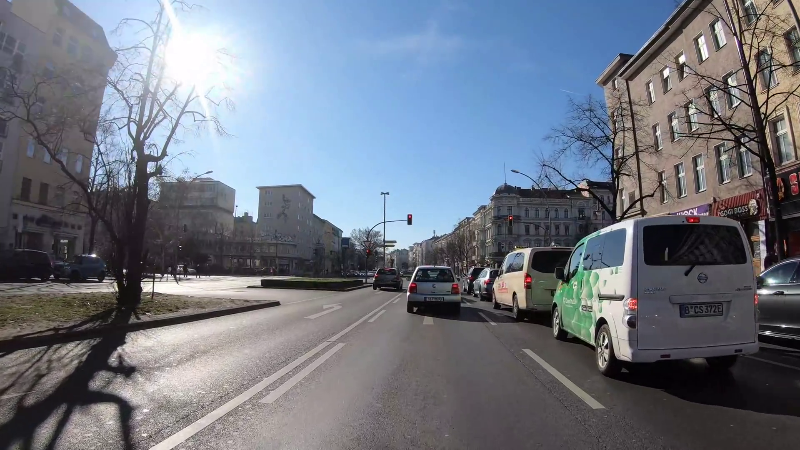Plate: (678, 302, 726, 319), (423, 294, 444, 302)
